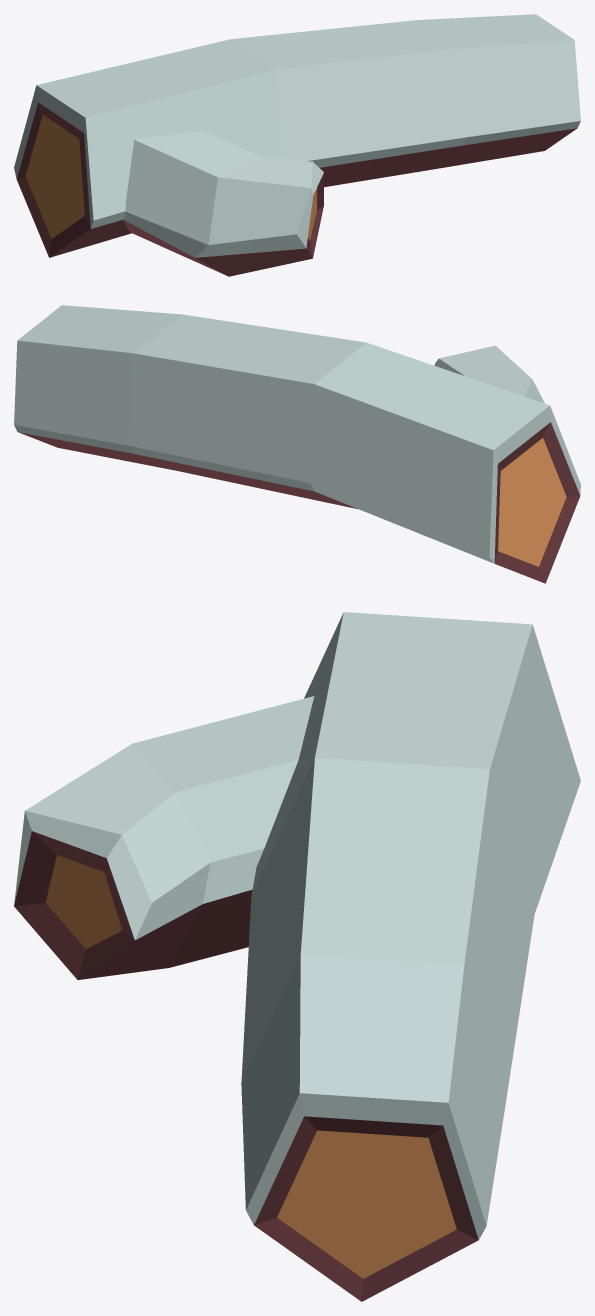
Rendered from log_2_snow.fbx.
3 renders of one model, top to bottom at view 1: azimuth 30°, elevation 25°; view 2: azimuth 150°, elevation 25°; view 3: azimuth 270°, elevation 25°, orthographic. The views are drawn at different scales.
Parts seen in each view (by area): view 1: Cylinder, Cylinder.001; view 2: Cylinder, Cylinder.001; view 3: Cylinder, Cylinder.001.
Part boxes in pixels (x1,y1,x2,y2): Cylinder: (14,14,580,257); Cylinder.001: (123,130,324,276); Cylinder: (14,305,580,583); Cylinder.001: (434,345,544,403); Cylinder: (241,612,580,1301); Cylinder.001: (14,696,314,979).
Bounding box in the file's own units: 212 × 65.77 × 115.
